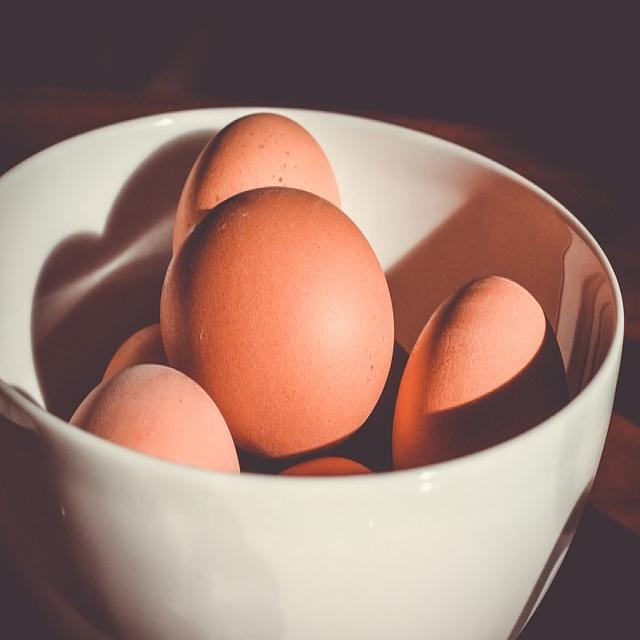Egg: (100, 157, 532, 465), (154, 187, 394, 453), (396, 260, 578, 453), (173, 111, 346, 268), (69, 372, 258, 490)
